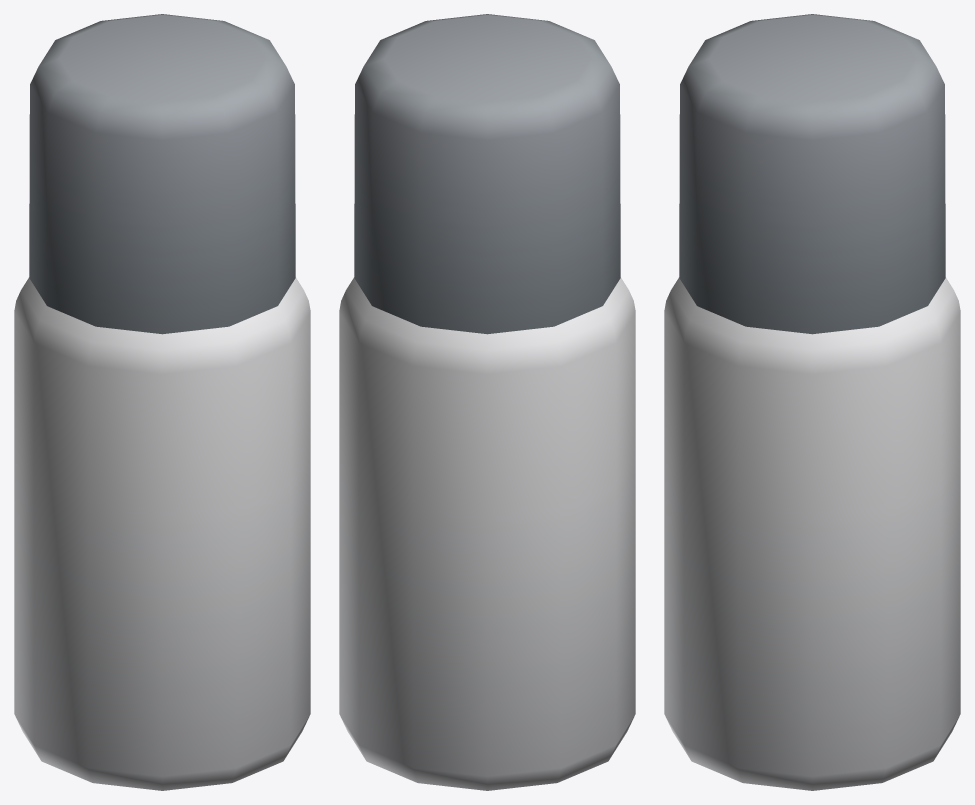
The model's file is Salt.fbx.
3 views of the same model, side by side, from view 1: azimuth 30°, elevation 25°; view 2: azimuth 150°, elevation 25°; view 3: azimuth 270°, elevation 25° (orthographic).
Parts seen in each view (by area): view 1: Salt; view 2: Salt; view 3: Salt.
Boxes of the visible parts, x1,y1,x2,y2 form: Salt: (14, 14, 310, 790); Salt: (339, 14, 635, 790); Salt: (664, 14, 960, 790).
Size of the model in its own units: 11.34 by 11.34 by 28.72.
